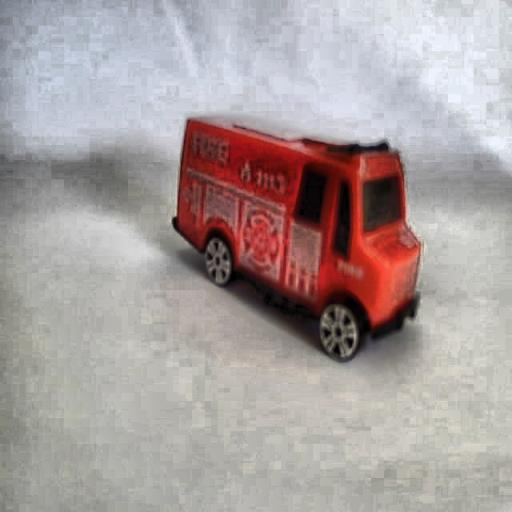fire_truck: (174, 114, 421, 366)
